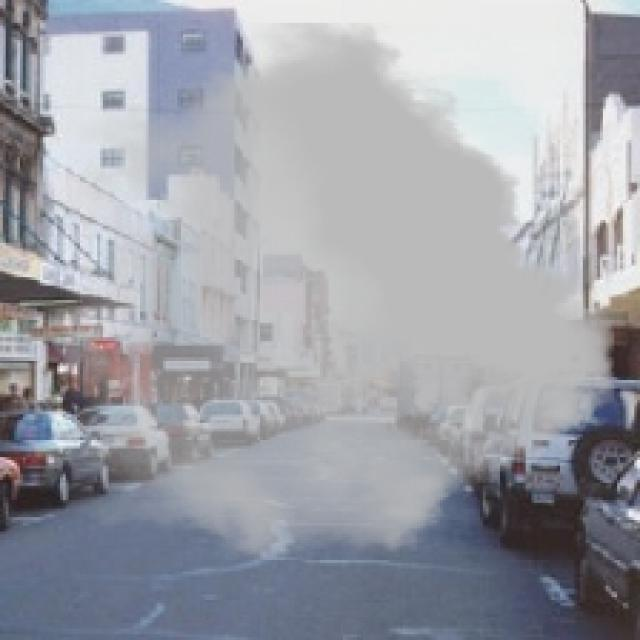Smoke: (66, 23, 614, 560)
